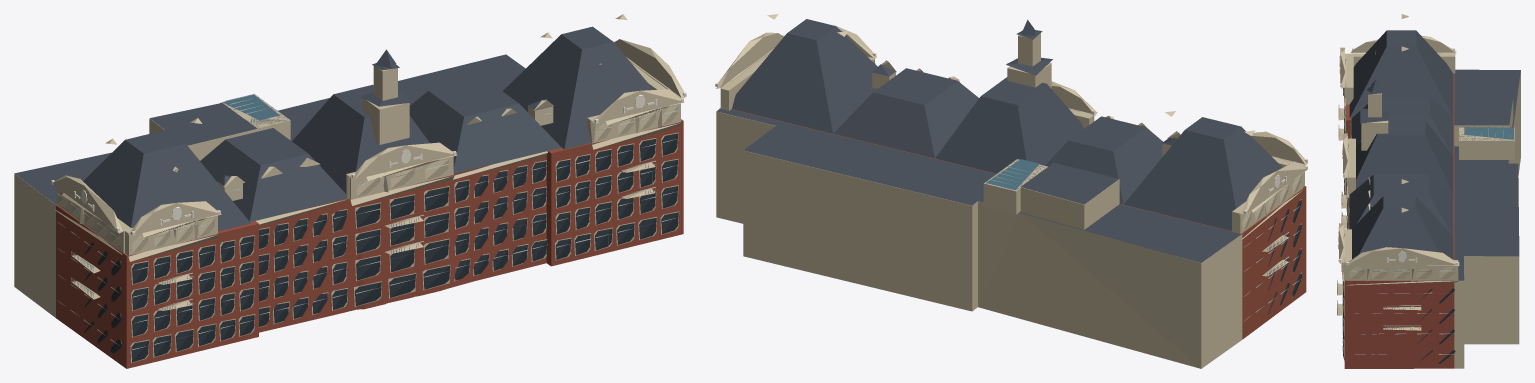
The model's file is de-bijenkorf.lod1.glb.
3 views of the same model, side by side, from view 1: azimuth 30°, elevation 25°; view 2: azimuth 150°, elevation 25°; view 3: azimuth 270°, elevation 25° (orthographic). The views are drawn at different scales.
Parts seen in each view (by area): view 1: de-bijenkorf; view 2: de-bijenkorf; view 3: de-bijenkorf.
Boxes of the visible parts, x1=… form: de-bijenkorf: x1=14, y1=14, x2=686, y2=368; de-bijenkorf: x1=715, y1=14, x2=1308, y2=368; de-bijenkorf: x1=1337, y1=14, x2=1520, y2=368.
Size of the model in its own units: 114 by 45.37 by 40.95.
